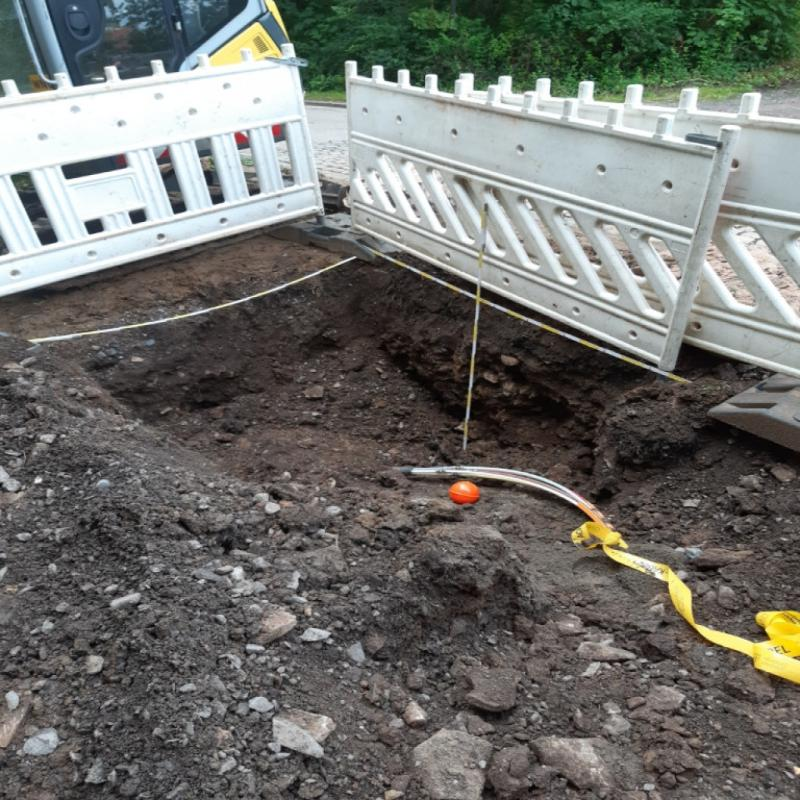Kugelmarker: (447, 481, 480, 504)
